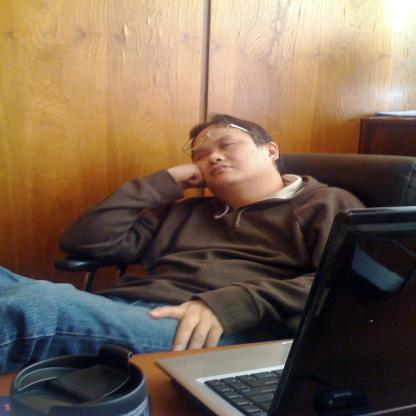board: (152, 206, 416, 416)
